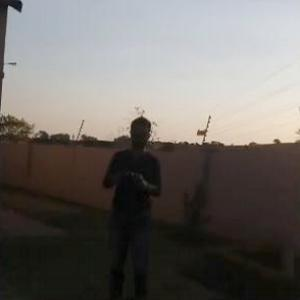follow: (96, 116, 167, 299)
